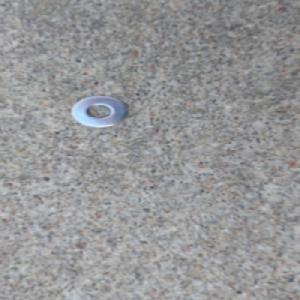Washer: (68, 93, 133, 131)
